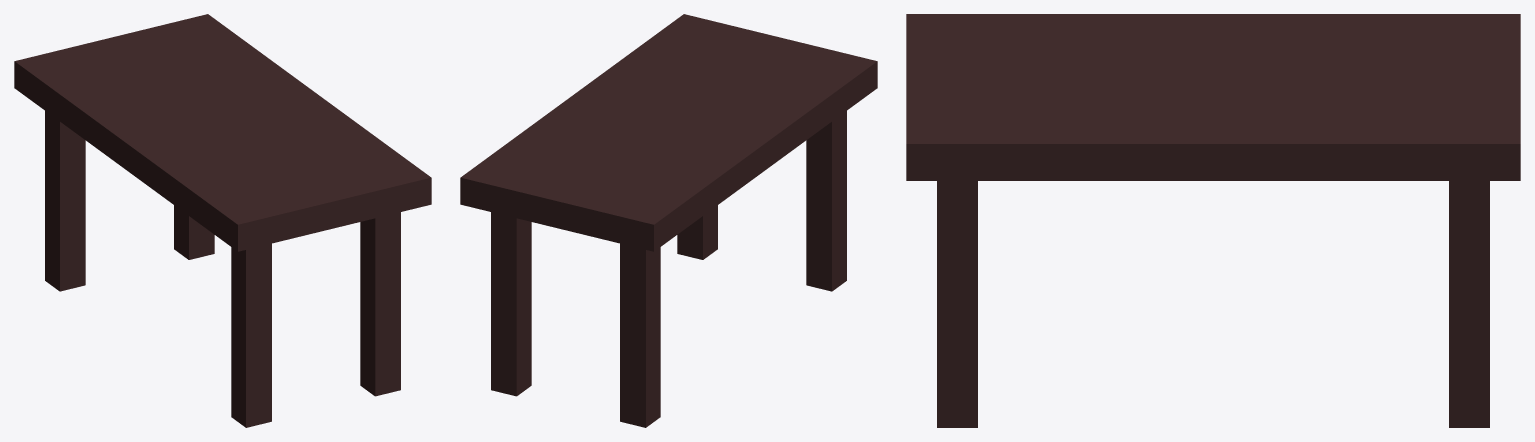
The model's file is Table.fbx.
3 renders of one model, left to right at view 1: azimuth 30°, elevation 25°; view 2: azimuth 150°, elevation 25°; view 3: azimuth 270°, elevation 25°, orthographic. The views are drawn at different scales.
Visible parts, largest first — view 1: Table1, Cube.026, Cube.025, Cube.017, Cube.018; view 2: Table1, Cube.017, Cube.018, Cube.026, Cube.025; view 3: Table1, Cube.018, Cube.025.
Part boxes in pixels (<box>): Table1: <box>14,14,431,251</box>; Cube.026: <box>231,243,271,427</box>; Cube.025: <box>360,212,400,396</box>; Cube.017: <box>45,111,85,291</box>; Cube.018: <box>174,205,214,259</box>; Table1: <box>460,14,877,251</box>; Cube.017: <box>620,243,660,427</box>; Cube.018: <box>491,212,531,396</box>; Cube.026: <box>806,111,846,291</box>; Cube.025: <box>677,205,717,259</box>; Table1: <box>906,14,1520,180</box>; Cube.018: <box>1449,181,1489,427</box>; Cube.025: <box>937,181,977,427</box>.
Size of the model in its own units: 150 by 160 by 300.
